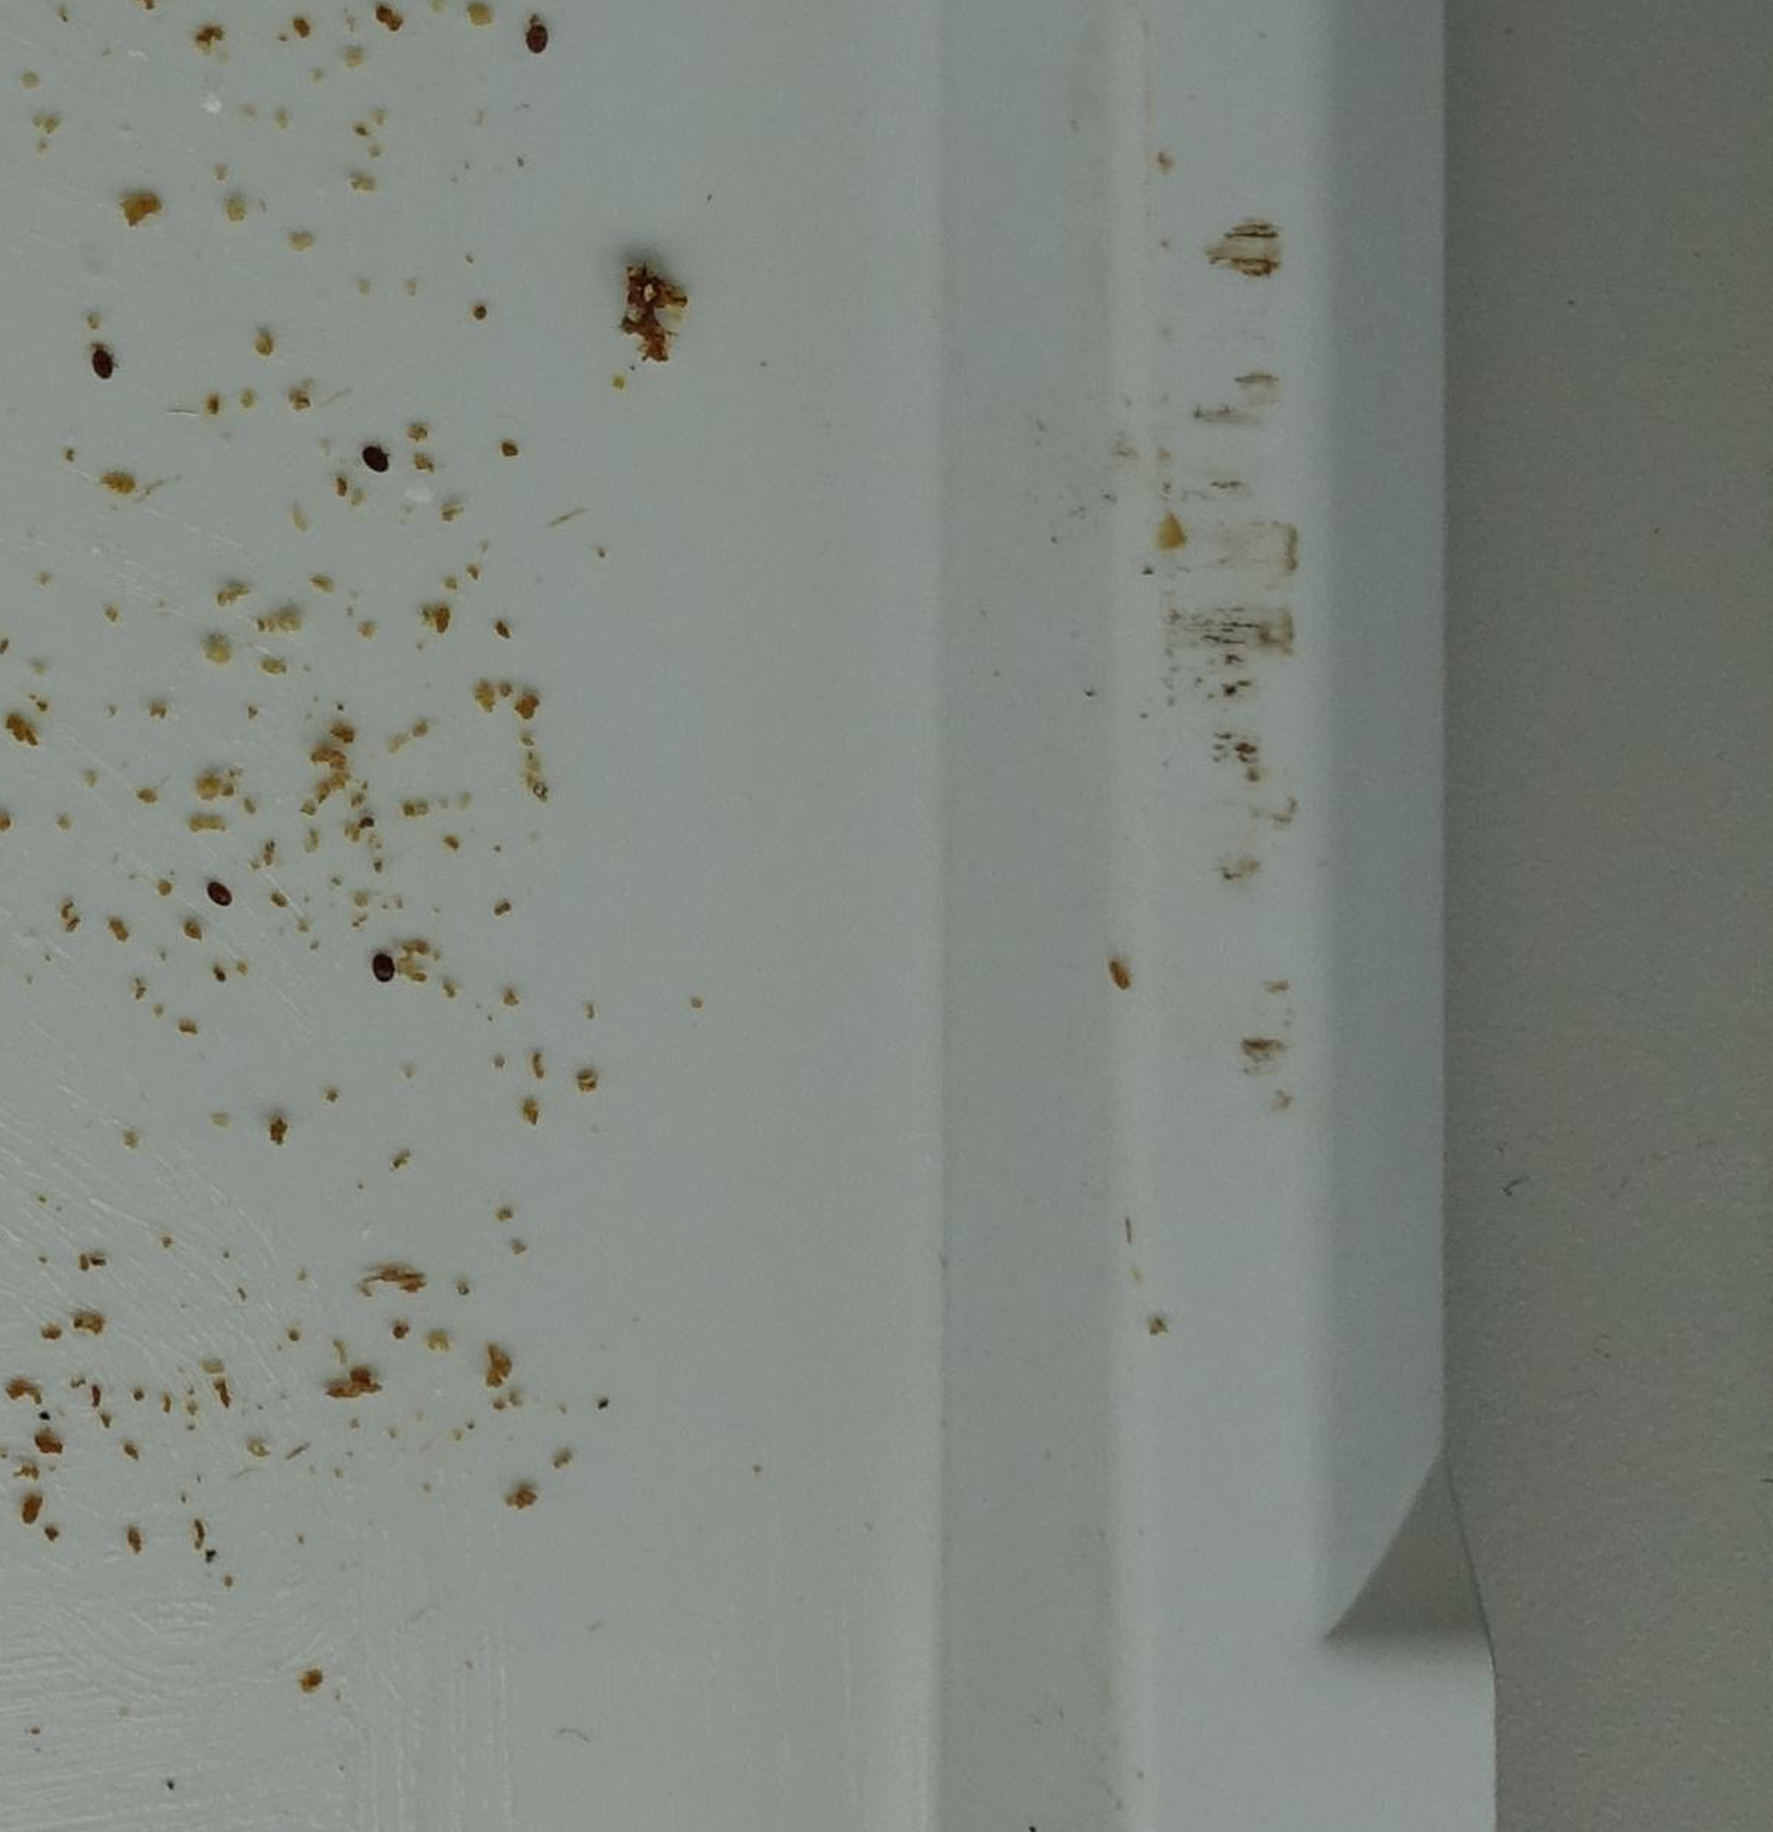Varroa: (88, 350, 118, 383), (522, 25, 551, 56), (371, 952, 401, 983), (209, 880, 239, 909), (361, 442, 389, 473)
